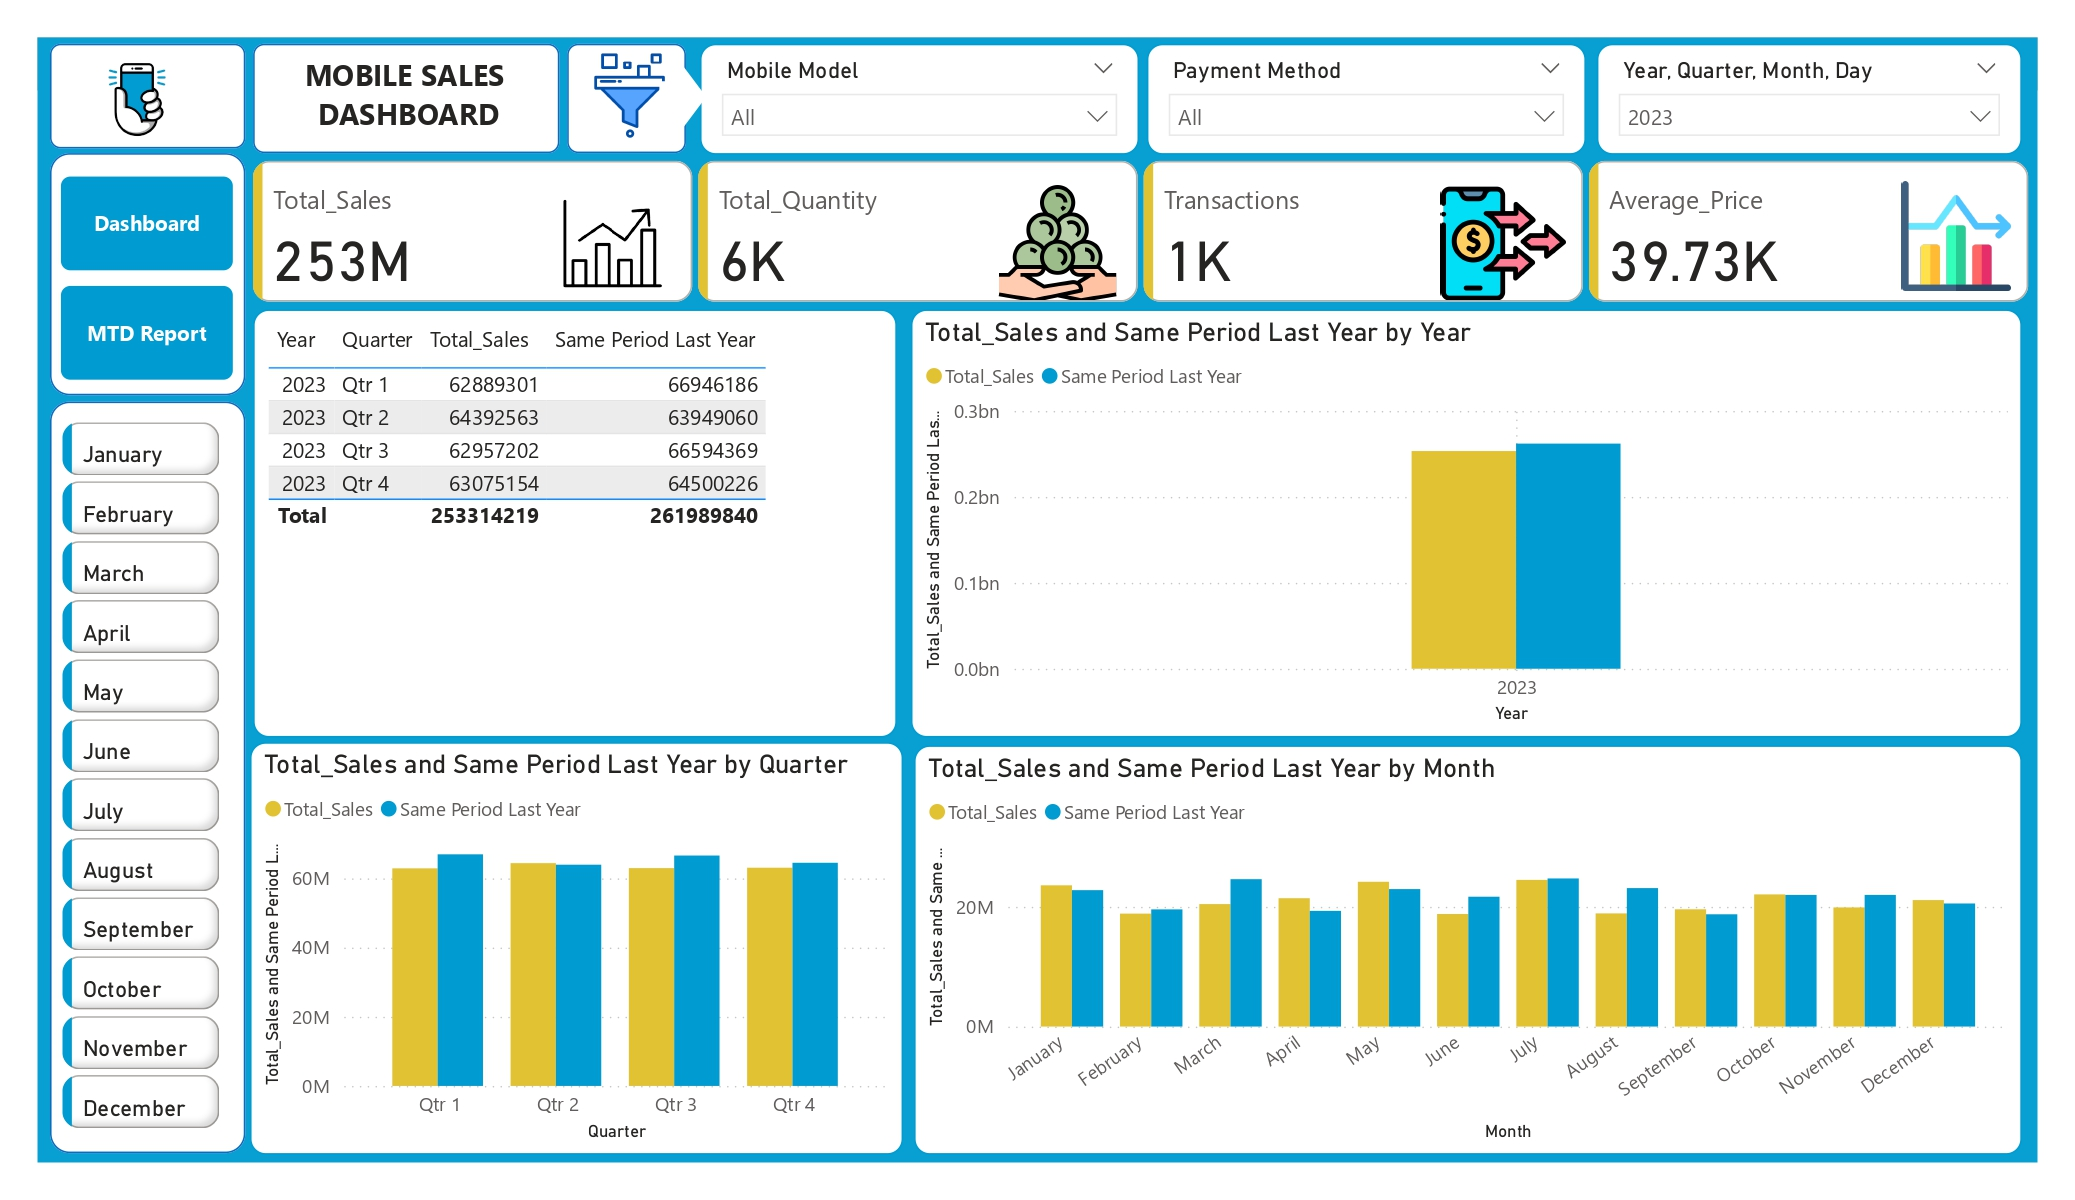

This screenshot's page, from the dashboard's own definition file:
{"tool":"powerbi","page":{"name":"Same Period Last Year","canvas":[1280,720],"ordinal":2},"visuals":[{"type":"shape","box":[10,10,120,73.8],"z":0},{"type":"image","box":[17.5,12.5,105,71.2],"z":1000},{"type":"shape","box":[10,92.5,120,167.5],"z":2000},{"type":"cardVisual","fields":{"Data":["Sales_Data.Total_Sales","Sales_Data.Total_Quantity","Sales_Data.Transactions","Sales_Data.Average_Price"]},"box":[135,83.8,1145,103.8],"z":3000},{"type":"slicer","fields":{"Values":["Sales_Data.Mobile Model"]},"box":[422.5,7.5,281.2,76.2],"z":4000},{"type":"slicer","fields":{"Values":["Sales_Data.Payment Method"]},"box":[706.2,7.5,281.2,76.2],"z":5000},{"type":"slicer","fields":{"Values":["Custom_Calender.Date.Variation.Date Hierarchy.Year","Custom_Calender.Date.Variation.Date Hierarchy.Quarter","Custom_Calender.Date.Variation.Date Hierarchy.Month","Custom_Calender.Date.Variation.Date Hierarchy.Day"]},"box":[990,7.5,281.2,76.2],"z":6000},{"type":"shape","box":[330,7.5,86.2,76.2],"z":7000},{"type":"image","box":[330,10,78.8,73.8],"z":8000},{"type":"shape","box":[135,10,191.2,73.8],"z":9000},{"type":"textbox","box":[147.5,12.5,165,71.2],"z":10000},{"type":"shape","box":[10,263.8,120,446.2],"z":11000},{"type":"advancedSlicerVisual","fields":{"Values":["Custom_Calender.Date.Variation.Date Hierarchy.Month"]},"box":[17.5,273.8,107.5,436.2],"z":12000},{"type":"tableEx","fields":{"Values":["Custom_Calender.Date.Variation.Date Hierarchy.Year","Custom_Calender.Date.Variation.Date Hierarchy.Quarter","Sales_Data.Total_Sales","Sales_Data.Same Period Last Year"]},"box":[135,187.5,361.2,272.5],"z":13000},{"type":"clusteredColumnChart","fields":{"Category":["Custom_Calender.Date.Variation.Date Hierarchy.Year","Custom_Calender.Date.Variation.Date Hierarchy.Quarter"],"Y":["Sales_Data.Total_Sales","Sales_Data.Same Period Last Year"]},"box":[506.2,187.5,765,272.5],"z":14000},{"type":"clusteredColumnChart","fields":{"Category":["Custom_Calender.Date.Variation.Date Hierarchy.Year","Custom_Calender.Date.Variation.Date Hierarchy.Quarter"],"Y":["Sales_Data.Total_Sales","Sales_Data.Same Period Last Year"]},"box":[135,470,361.2,240],"z":15000},{"type":"clusteredColumnChart","fields":{"Y":["Sales_Data.Total_Sales","Sales_Data.Same Period Last Year"],"Category":["Custom_Calender.Date.Variation.Date Hierarchy.Year","Custom_Calender.Date.Variation.Date Hierarchy.Quarter","Custom_Calender.Date.Variation.Date Hierarchy.Month","Custom_Calender.Date.Variation.Date Hierarchy.Day"]},"box":[506.2,470,765,240],"z":16000},{"type":"pageNavigator","box":[17.5,101.2,105,150],"z":16001}]}

Visuals, with their boxes on the page's 1280x720 design canvas (x1, y1, x2, y2). These are canvas units, not pixel positions in the 2075x1200 screenshot, which may show the page scaled, cropped or inside an application window:
shape: [left=10, top=10, right=130, bottom=84]
image: [left=18, top=12, right=122, bottom=84]
shape: [left=10, top=92, right=130, bottom=260]
cardVisual - Sales_Data.Total_Sales x Sales_Data.Total_Quantity: [left=135, top=84, right=1280, bottom=188]
slicer - Sales_Data.Mobile Model: [left=422, top=8, right=704, bottom=84]
slicer - Sales_Data.Payment Method: [left=706, top=8, right=987, bottom=84]
slicer - Custom_Calender.Date.Variation.Date Hierarchy.Year x Custom_Calender.Date.Variation.Date Hierarchy.Quarter: [left=990, top=8, right=1271, bottom=84]
shape: [left=330, top=8, right=416, bottom=84]
image: [left=330, top=10, right=409, bottom=84]
shape: [left=135, top=10, right=326, bottom=84]
textbox: [left=148, top=12, right=312, bottom=84]
shape: [left=10, top=264, right=130, bottom=710]
advancedSlicerVisual - Custom_Calender.Date.Variation.Date Hierarchy.Month: [left=18, top=274, right=125, bottom=710]
tableEx - Custom_Calender.Date.Variation.Date Hierarchy.Year x Custom_Calender.Date.Variation.Date Hierarchy.Quarter: [left=135, top=188, right=496, bottom=460]
clusteredColumnChart - Custom_Calender.Date.Variation.Date Hierarchy.Year x Custom_Calender.Date.Variation.Date Hierarchy.Quarter: [left=506, top=188, right=1271, bottom=460]
clusteredColumnChart - Custom_Calender.Date.Variation.Date Hierarchy.Year x Custom_Calender.Date.Variation.Date Hierarchy.Quarter: [left=135, top=470, right=496, bottom=710]
clusteredColumnChart - Sales_Data.Total_Sales x Sales_Data.Same Period Last Year: [left=506, top=470, right=1271, bottom=710]
pageNavigator: [left=18, top=101, right=122, bottom=251]
